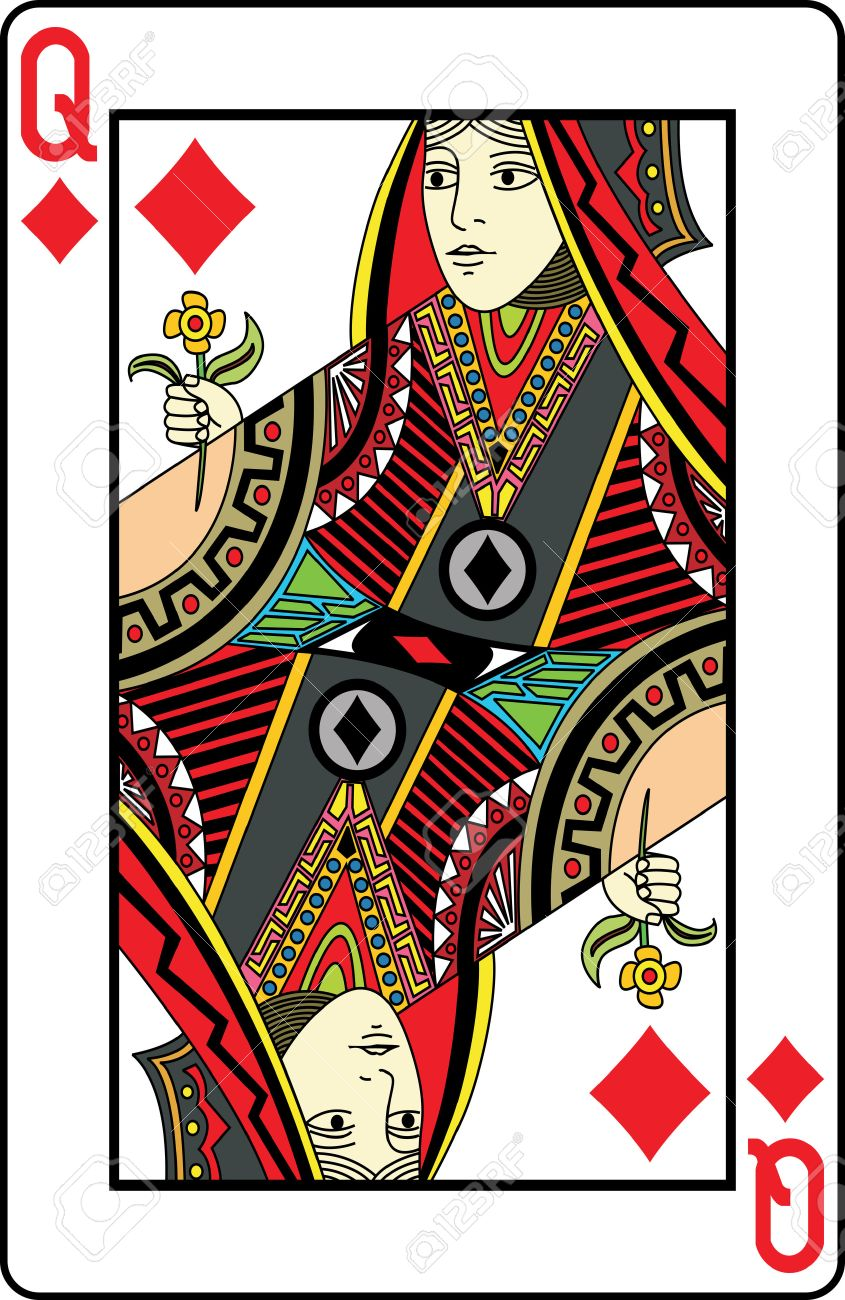queen of diamonds: (6, 12, 843, 1290)
